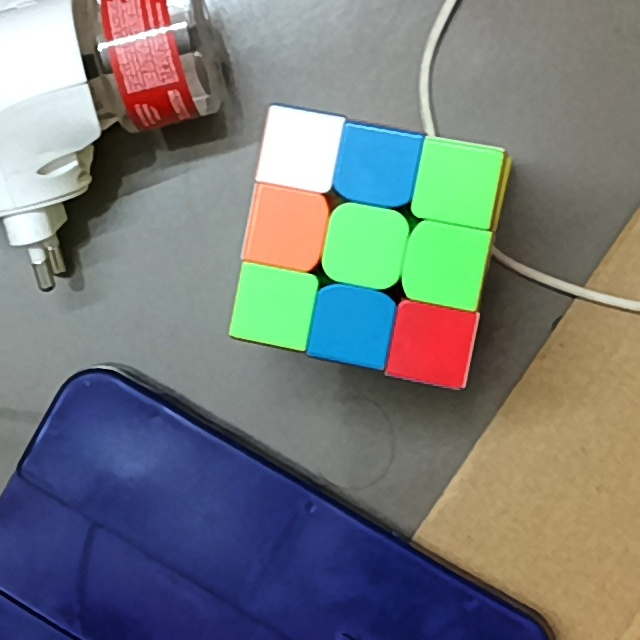tile: (427, 152, 490, 217), (400, 314, 463, 377), (256, 198, 317, 260), (320, 296, 383, 355), (241, 278, 304, 335), (333, 222, 396, 278), (413, 240, 477, 295), (268, 120, 330, 176), (347, 138, 409, 194)
